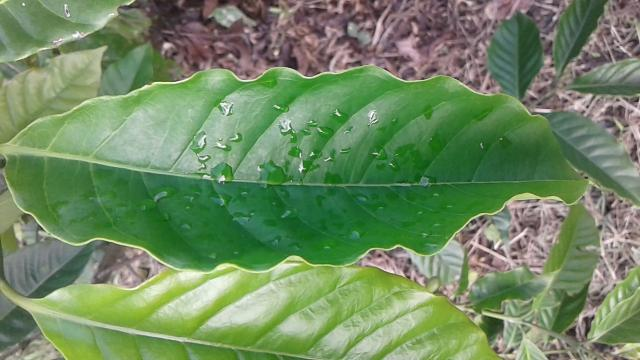healthy: (6, 64, 588, 270)
